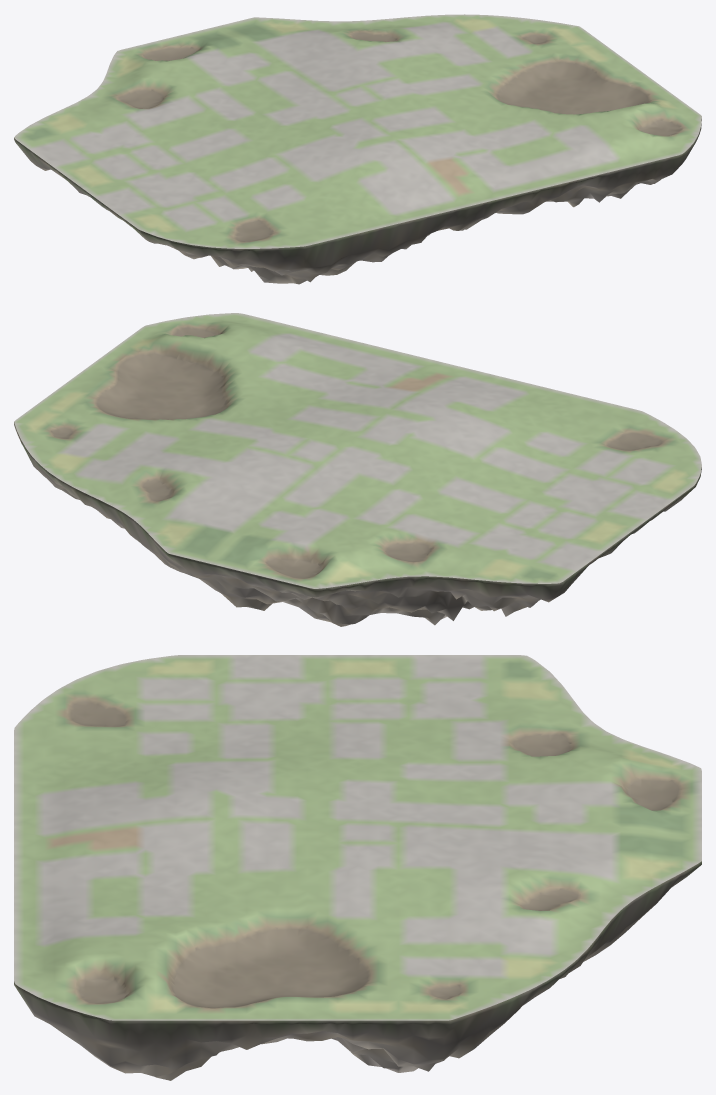
File: SKY-021.rock.glb
3 views of the same model, one above another, from view 1: azimuth 30°, elevation 25°; view 2: azimuth 150°, elevation 25°; view 3: azimuth 270°, elevation 25° (orthographic). The views are drawn at different scales.
Visible parts, largest first — view 1: deck-col, rock; view 2: deck-col, rock; view 3: deck-col, rock.
Part boxes in pixels (x1=…): deck-col: x1=14, y1=14, x2=701, y2=248; rock: x1=14, y1=119, x2=701, y2=284; deck-col: x1=14, y1=313, x2=701, y2=588; rock: x1=14, y1=422, x2=701, y2=626; deck-col: x1=14, y1=655, x2=701, y2=1020; rock: x1=14, y1=861, x2=701, y2=1080.
Size of the model in its own units: 342 by 87.5 by 272.
